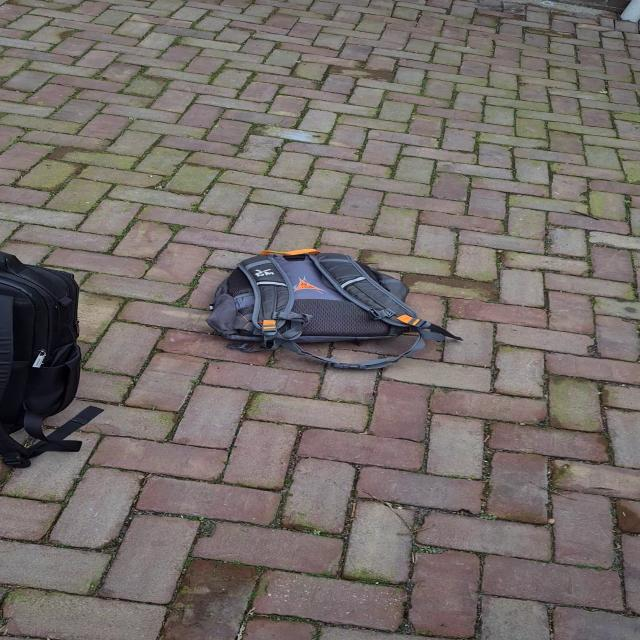backpack: (201, 250, 440, 370), (0, 246, 80, 480)
